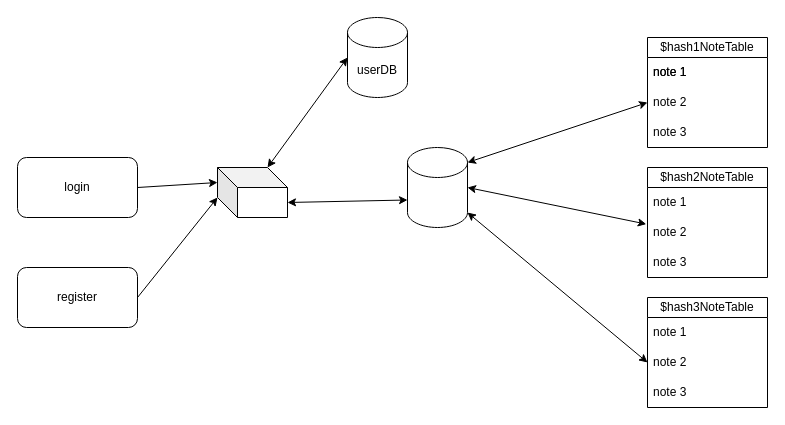
This 785x425 diagram has some shape labels left out. Here are the shapes that lost their labels. From the top down, the centre of each, then its label:
At [252,192]: "check".
At [437,187]: "CommentDB".
